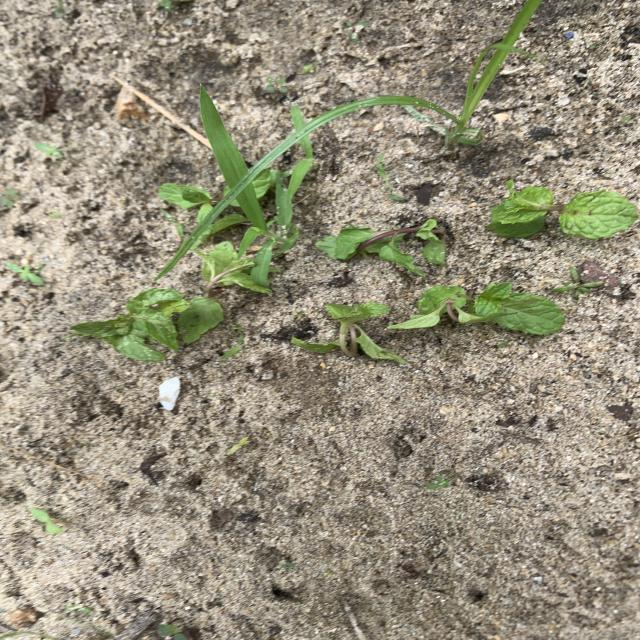crop: (176, 240, 274, 343), (386, 282, 565, 335), (488, 180, 638, 240), (71, 289, 190, 362), (316, 219, 446, 277), (291, 303, 407, 364), (159, 183, 213, 210)
weed: (316, 0, 542, 148), (211, 182, 297, 256), (200, 85, 248, 188), (275, 135, 313, 227), (291, 106, 310, 130), (225, 214, 246, 224)
